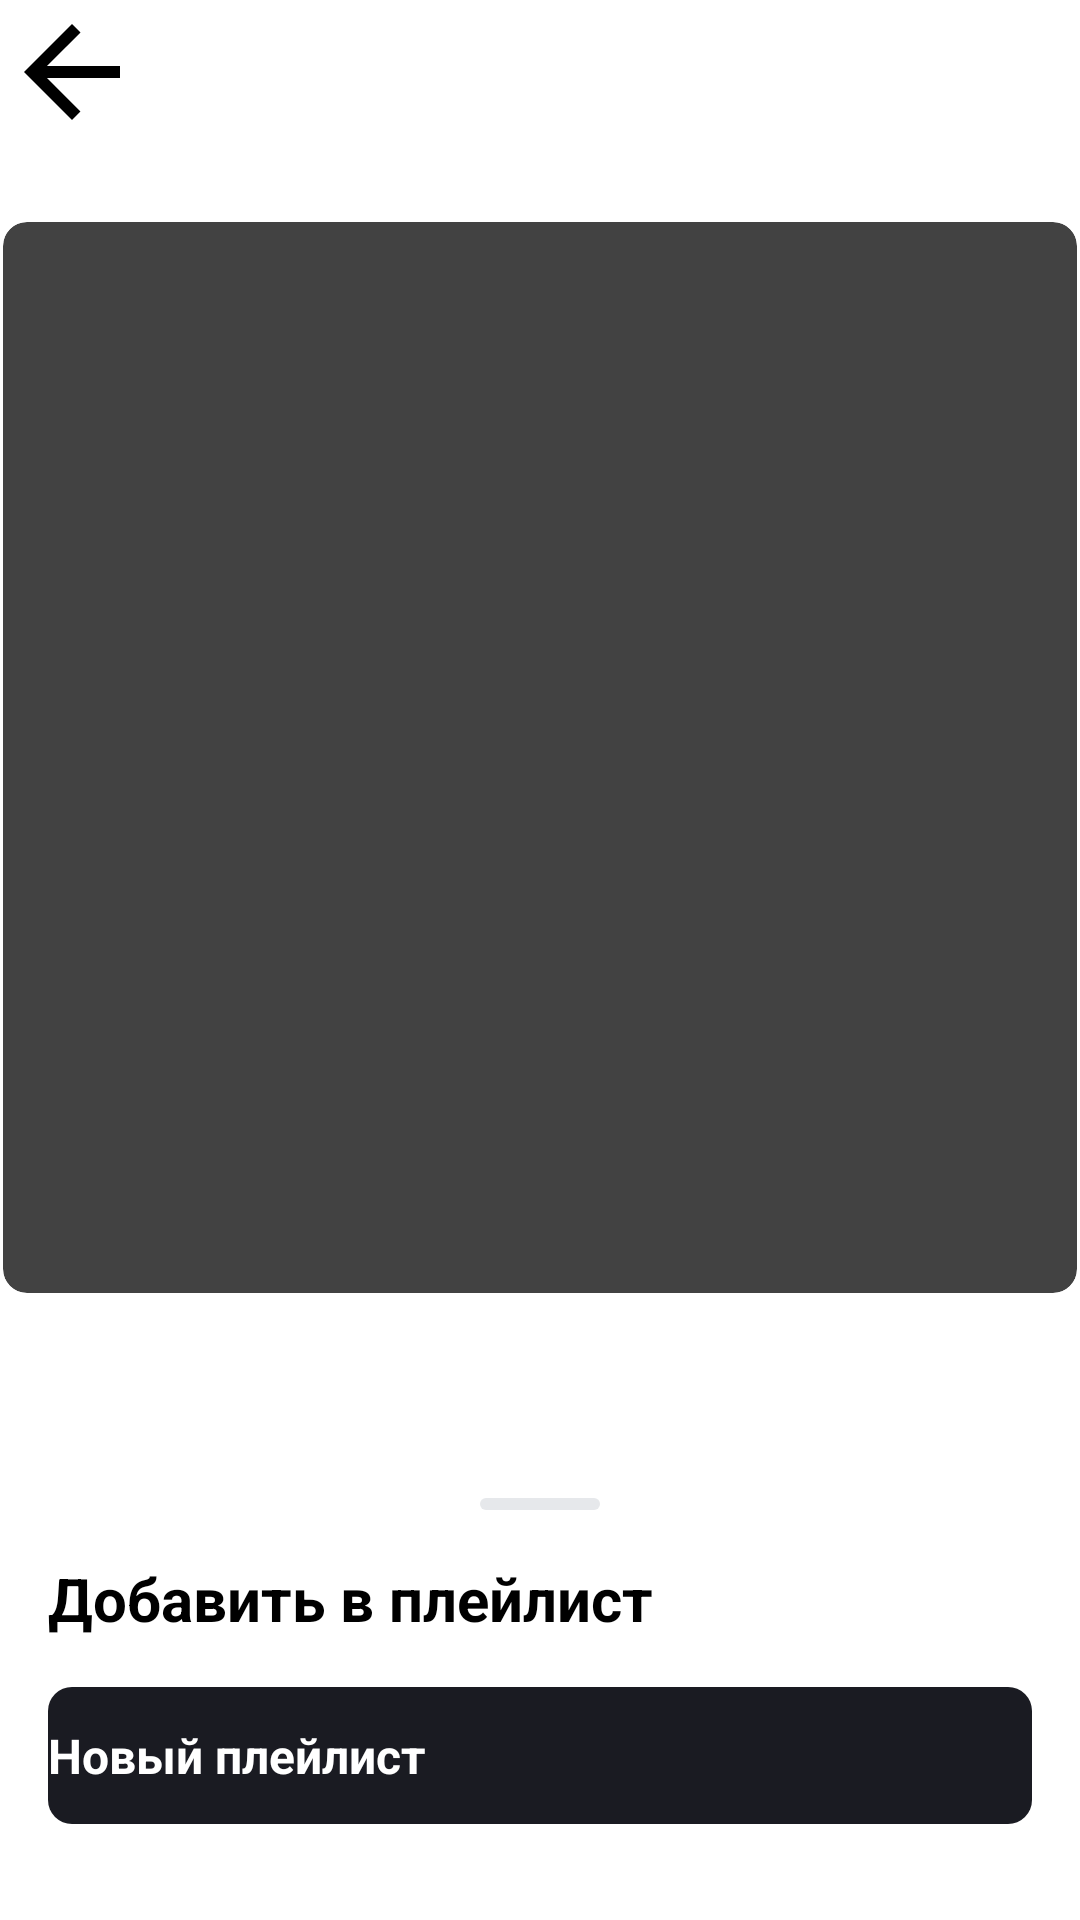

Where to tap for icons on this 1080*1920 app screen, as (x=x, y=y):
Назад: (x=72, y=72)
